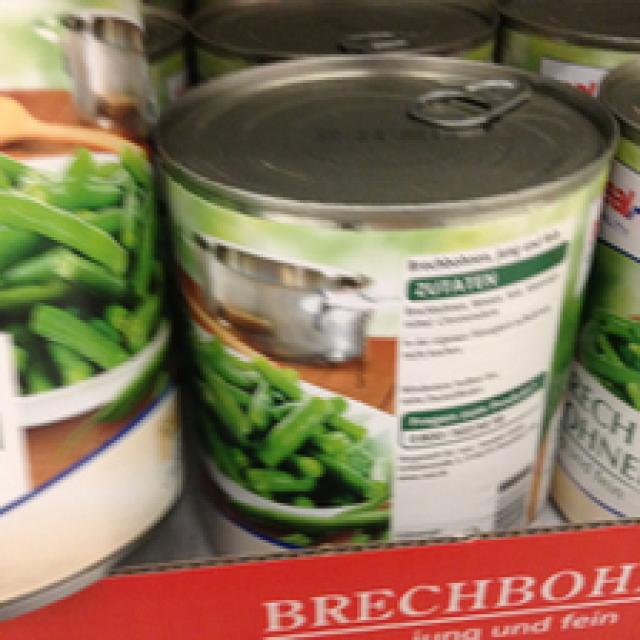groceries: (140, 51, 603, 580)
